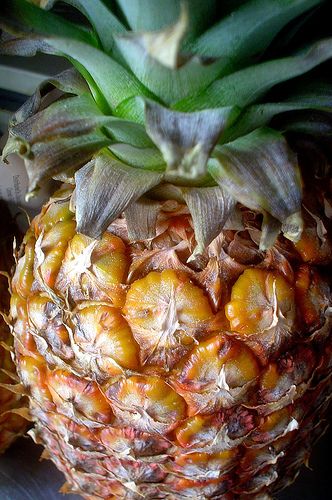pineapple: (0, 1, 330, 498)
